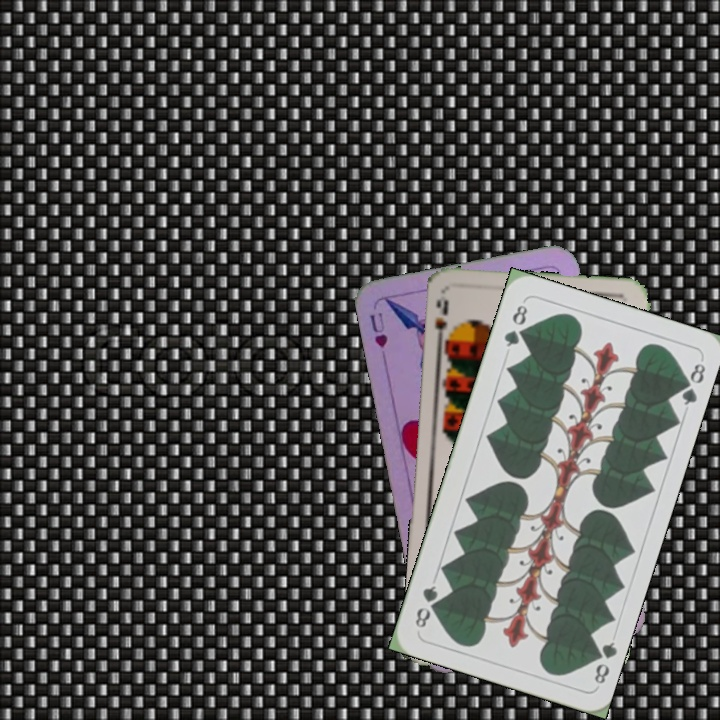G8: (586, 637, 619, 687), (500, 300, 530, 350)
HU: (366, 308, 391, 350)
S9: (431, 295, 456, 350)
